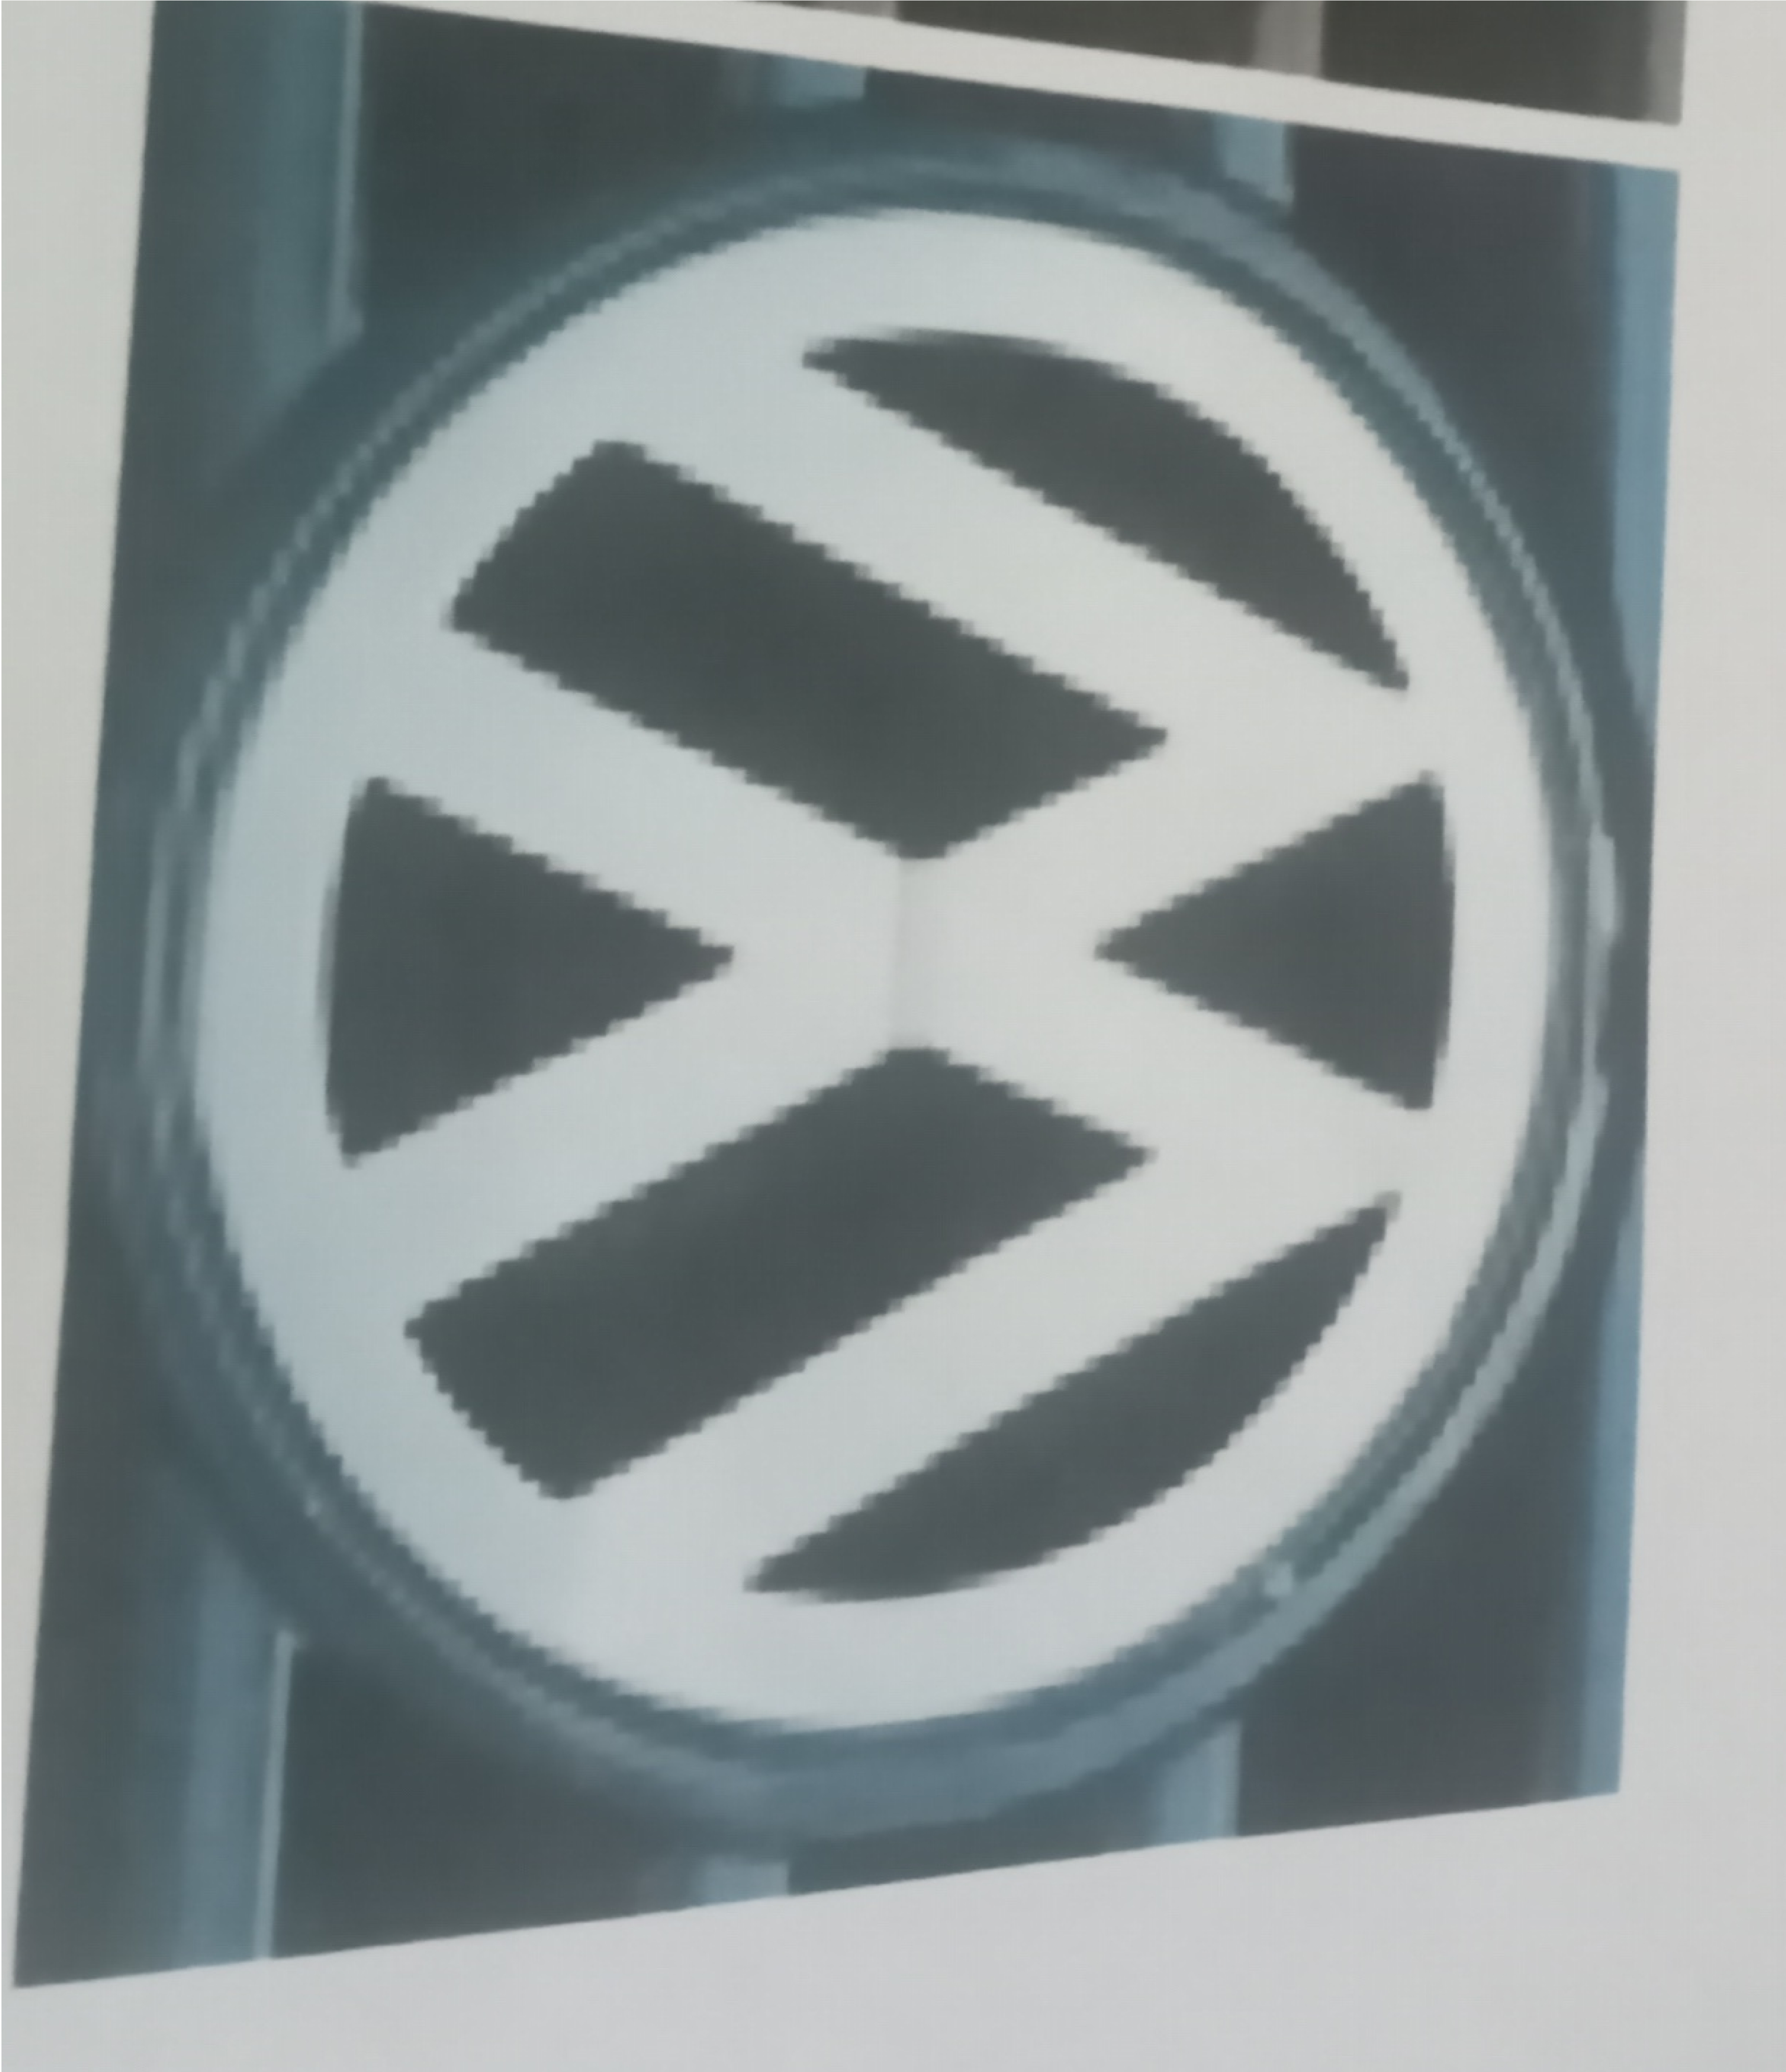Volkswagen: (130, 83, 1635, 1848)
